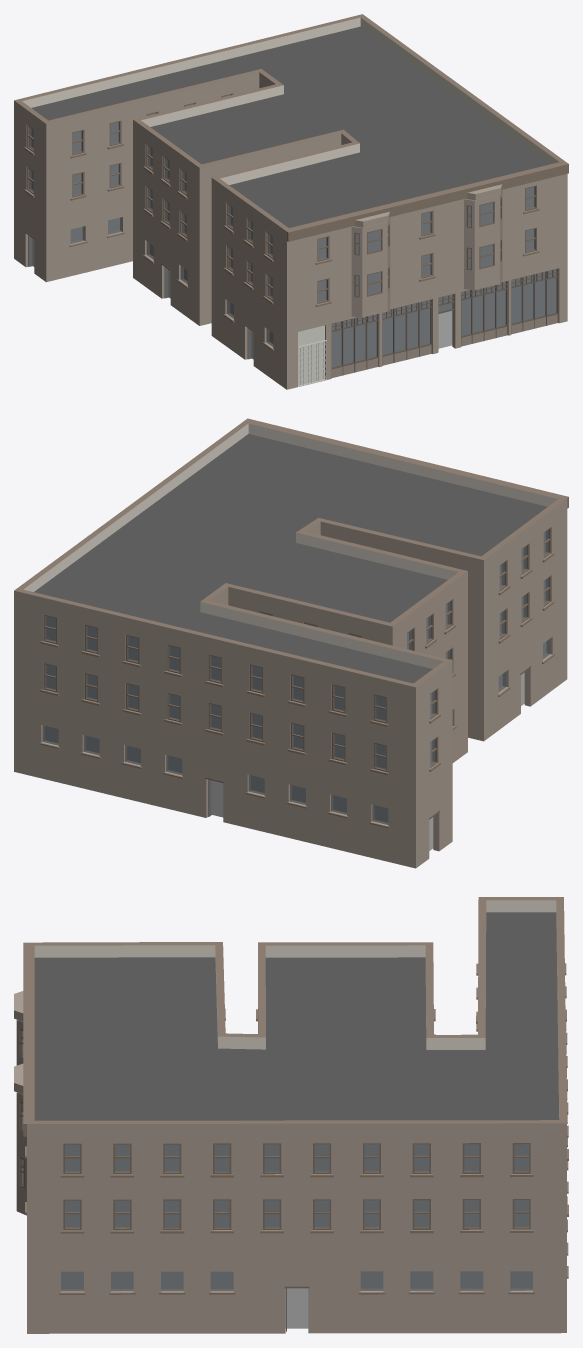
Rendered from exterior.glb.
3 renders of one model, top to bottom at view 1: azimuth 30°, elevation 25°; view 2: azimuth 150°, elevation 25°; view 3: azimuth 270°, elevation 25°, orthographic. The views are drawn at different scales.
Parts seen in each view (by area): view 1: shell, roof, glazing, shadow-proxy, storefront, bay-windows, fascia, frames, bay-glazing, trim, lattice-gates-11; view 2: shell, roof, glazing, shadow-proxy, frames, trim, fascia; view 3: shell, roof, glazing, shadow-proxy, frames, trim, bay-windows, fascia.
Boxes of the visible parts, left/top/right/bottom form: shell: left=14, top=14, right=567, bottom=389; roof: left=31, top=26, right=549, bottom=227; glazing: left=29, top=95, right=557, bottom=367; shadow-proxy: left=32, top=95, right=555, bottom=367; storefront: left=25, top=231, right=558, bottom=385; bay-windows: left=351, top=184, right=502, bottom=317; fascia: left=287, top=163, right=568, bottom=241; frames: left=27, top=93, right=536, bottom=304; bay-glazing: left=354, top=197, right=501, bottom=297; trim: left=24, top=143, right=539, bottom=350; lattice-gates-11: left=298, top=340, right=326, bottom=386; shell: left=14, top=419, right=567, bottom=868; roof: left=34, top=434, right=547, bottom=683; glazing: left=42, top=530, right=550, bottom=824; shadow-proxy: left=45, top=532, right=546, bottom=850; frames: left=43, top=527, right=550, bottom=771; trim: left=39, top=553, right=554, bottom=828; fascia: left=246, top=418, right=568, bottom=508; shell: left=27, top=897, right=566, bottom=1333; roof: left=34, top=912, right=559, bottom=1120; glazing: left=61, top=1144, right=532, bottom=1291; shadow-proxy: left=61, top=1144, right=532, bottom=1328; frames: left=63, top=1143, right=530, bottom=1230; trim: left=25, top=963, right=568, bottom=1294; bay-windows: left=14, top=991, right=26, bottom=1215; fascia: left=23, top=942, right=27, bottom=1136.
Bounding box in the file's own units: 23.73 × 10.15 × 24.34.
